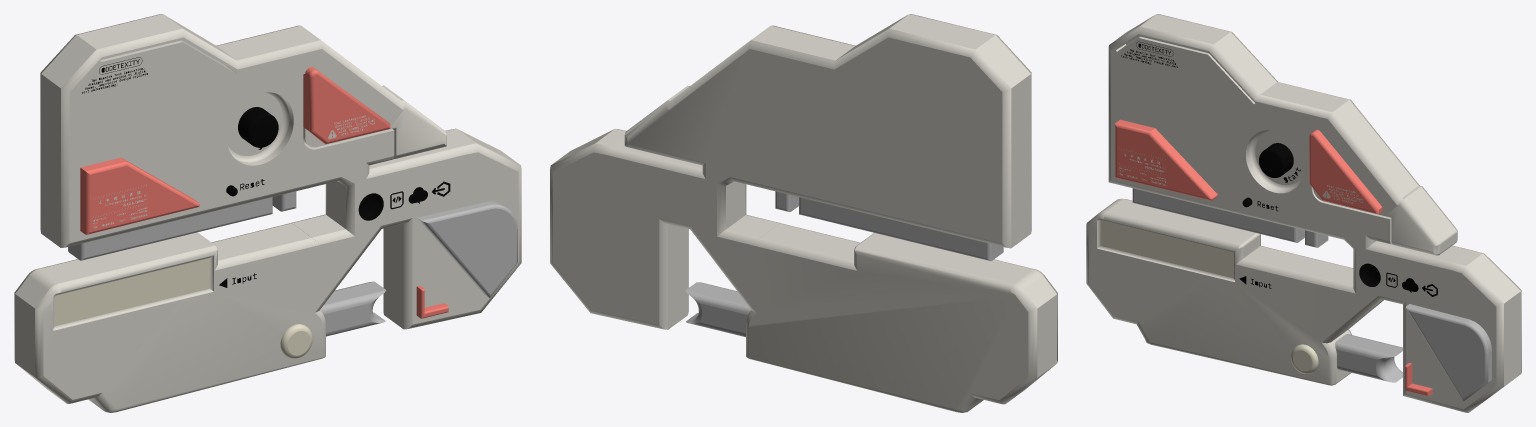
3 views of the same model, side by side, from view 1: azimuth 30°, elevation 25°; view 2: azimuth 150°, elevation 25°; view 3: azimuth 330°, elevation 25° (orthographic). The views are drawn at different scales.
Parts seen in each view (by area): view 1: 主体, Extrude_6, Extrude, 屏幕, Extrude_8, Extrude_5, Extrude_1, Buttom, Extrude_9, Attention, Disc, Extrude_4 (+1 smaller); view 2: 主体, Extrude_8, Extrude_1; view 3: 主体, Extrude_6, Extrude, 屏幕, Extrude_5, Extrude_8, Extrude_1, Buttom, Extrude_9, Attention, Extrude_4, Disc.
Part boxes in pixels (x1,y1,x2,y2): 主体: (14,14,521,412); Extrude_6: (80,157,199,234); Extrude: (417,201,517,297); 屏幕: (54,258,209,326); Extrude_8: (68,191,296,260); Extrude_5: (303,67,390,144); Extrude_1: (320,281,385,336); Buttom: (238,107,278,147); Extrude_9: (280,324,312,358); Attention: (82,57,147,93); Disc: (358,193,383,220); Extrude_4: (416,285,448,318); 主体: (550,14,1057,412); Extrude_8: (775,191,1003,261); Extrude_1: (685,282,751,336); 主体: (1086,14,1521,412); Extrude_6: (1115,119,1217,200); Extrude: (1406,304,1491,401); 屏幕: (1100,220,1233,277); Extrude_5: (1309,129,1382,213); Extrude_8: (1132,188,1328,247); Extrude_1: (1335,334,1402,382); Buttom: (1259,143,1293,177); Extrude_9: (1291,344,1318,373); Attention: (1121,41,1177,67); Extrude_4: (1405,363,1432,396); Disc: (1359,263,1380,286).
Size of the model in its own units: 17.01 by 12.2 by 2.02.
